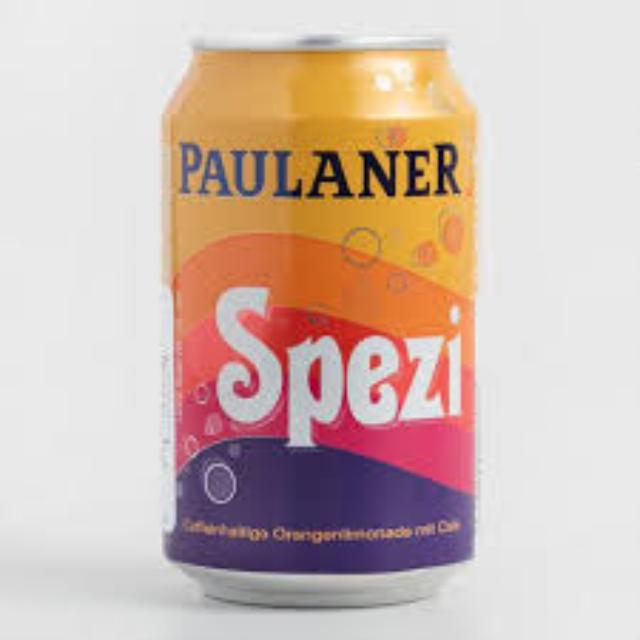metal: (159, 40, 469, 600)
